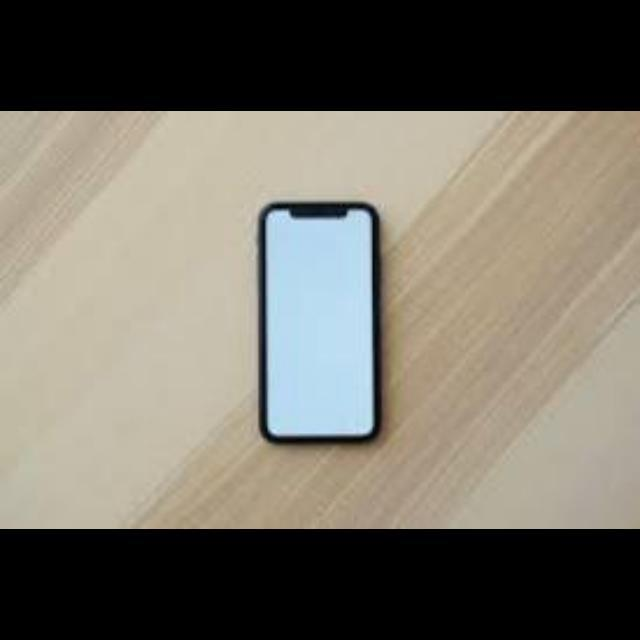Phone: (260, 202, 382, 448)
